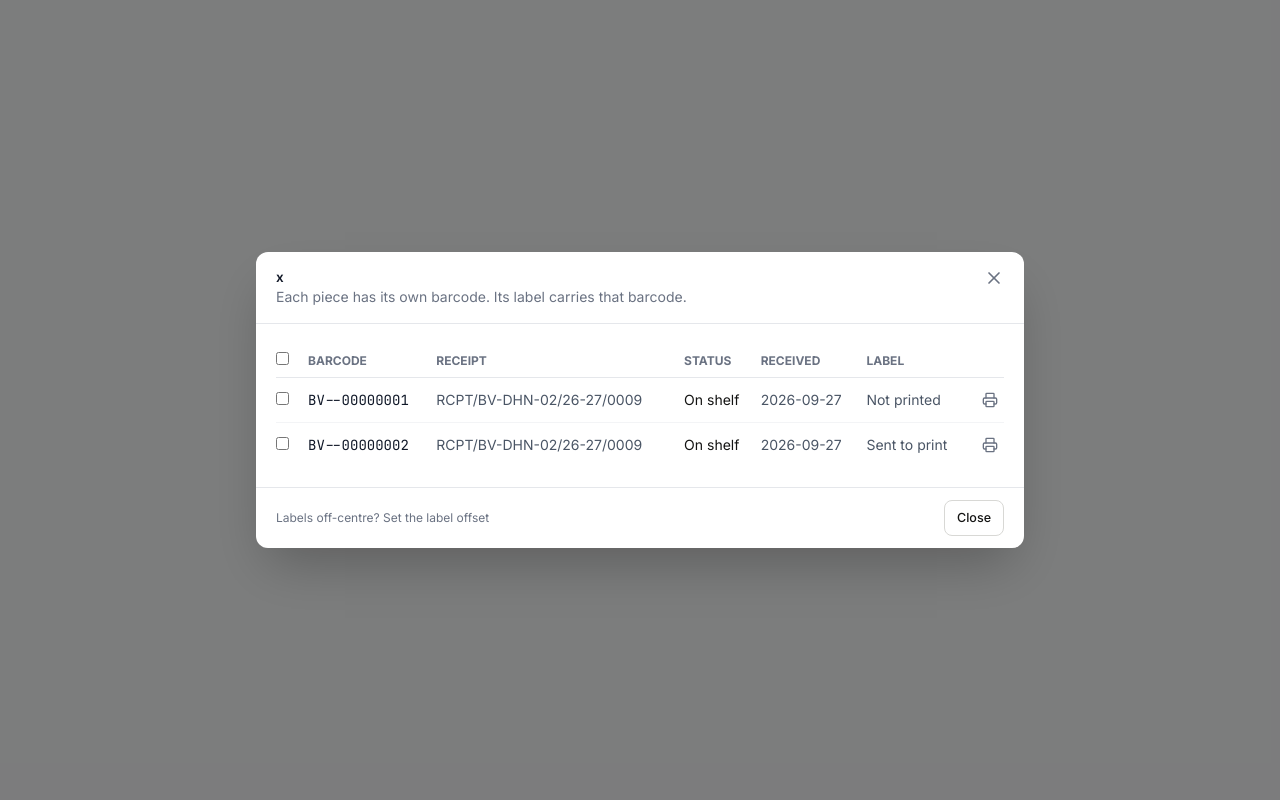
it: the units view (from the stock ledger) › says "Sent to print", never "Printed" (a cancelled print dialog cannot be seen)
Expected: the text "Sent to print" is shown, 866,423 -> 972,467
Click the button named "reprint": (990, 400) 976,386 -> 1004,414
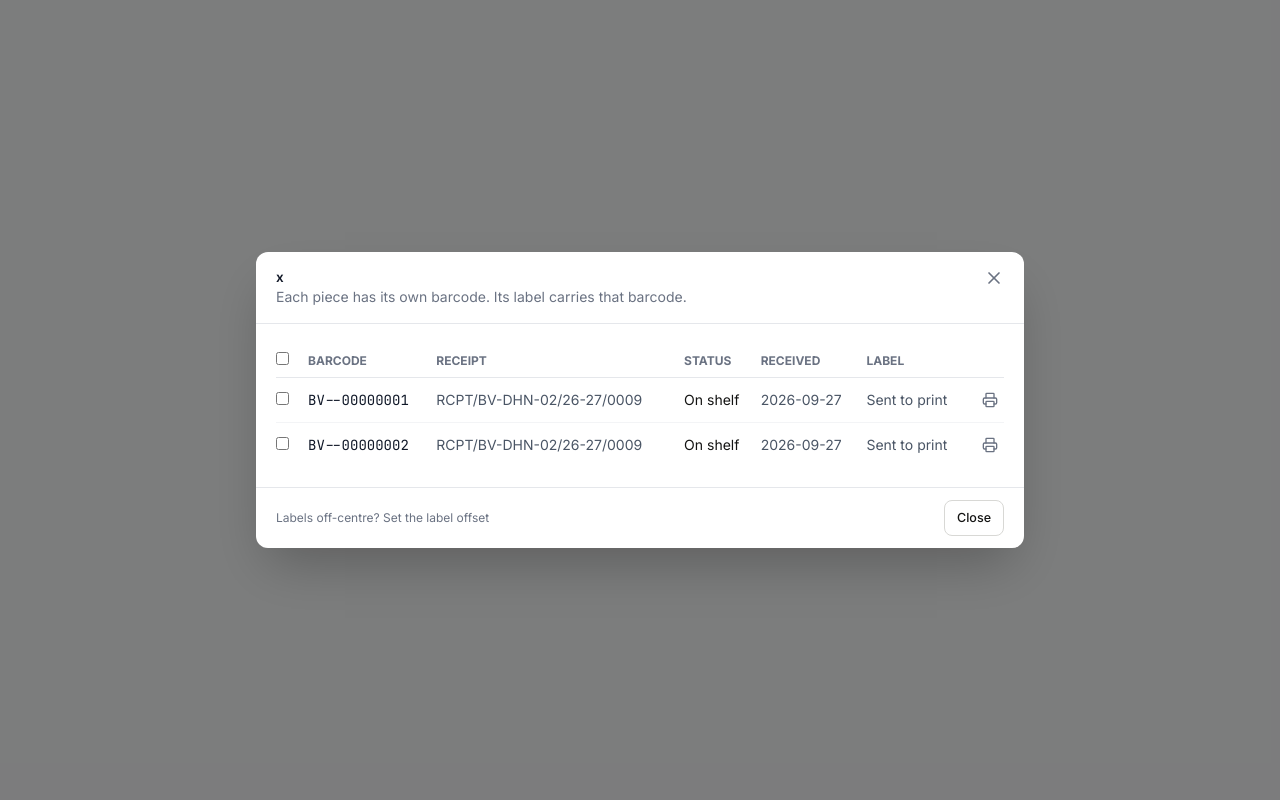
Expected: the text "Printed" is not shown
Now the text "Sent to print" in the row of "BV--00000001" is shown, box 866,391 -> 947,408
